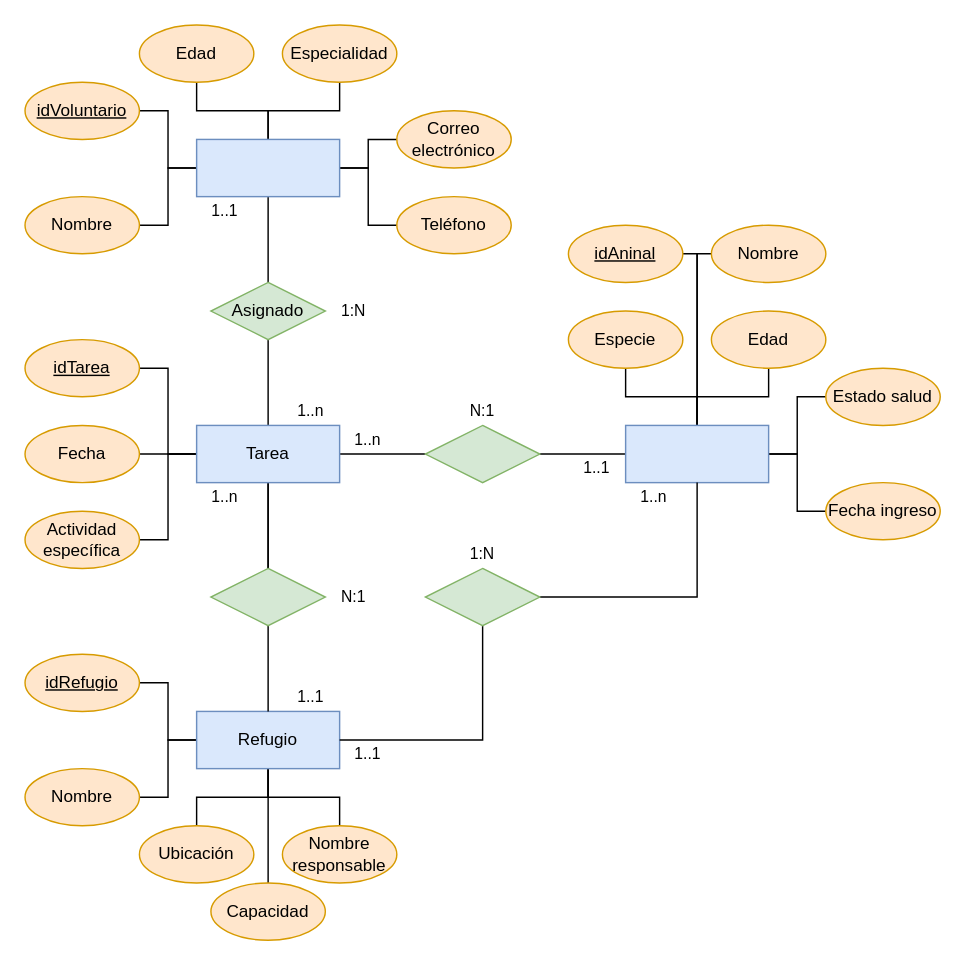
The diagram is 965 pixels wide and 965 high, and some of its shapes have lost their labels. Each missing label, with the centre of its shape:
"Alberga" goes at pixel 482 596.
"Animal" goes at pixel 696 453.
"Atiende" goes at pixel 482 453.
"Pertenece" goes at pixel 267 596.
"Voluntario" goes at pixel 267 167.
